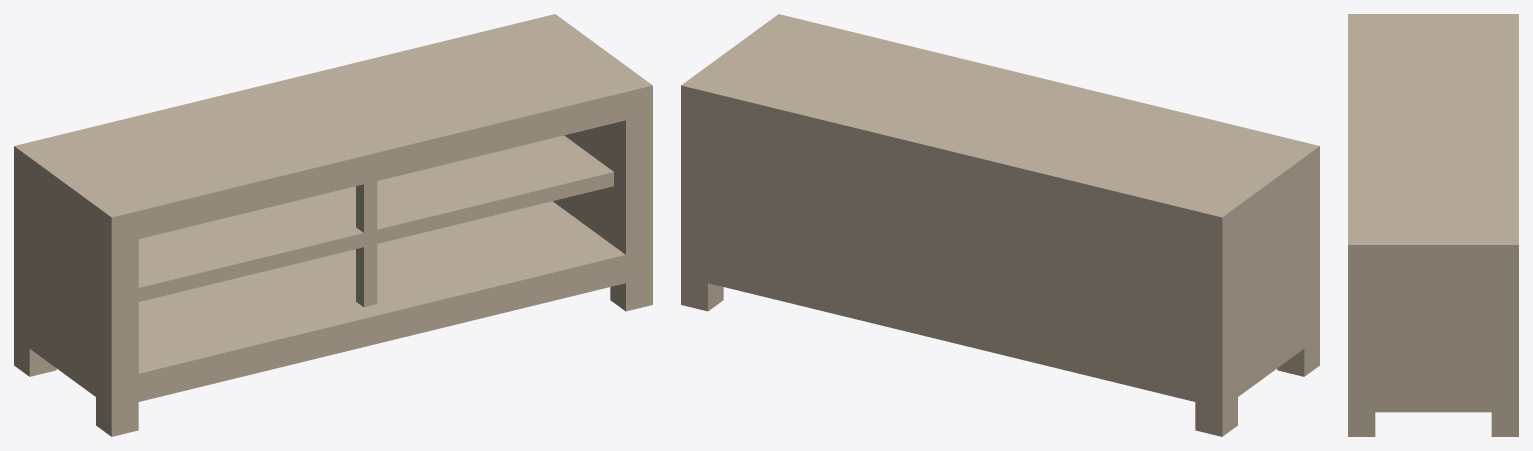
The model's file is cabinet_tv.glb.
3 views of the same model, side by side, from view 1: azimuth 30°, elevation 25°; view 2: azimuth 150°, elevation 25°; view 3: azimuth 270°, elevation 25° (orthographic). The views are drawn at different scales.
Visible parts, largest first — view 1: cabinet_tv; view 2: cabinet_tv; view 3: cabinet_tv.
Boxes of the visible parts, x1,y1,x2,y2 form: cabinet_tv: [14, 14, 652, 436]; cabinet_tv: [681, 14, 1319, 436]; cabinet_tv: [1348, 14, 1518, 436].
Size of the model in its own units: 48 by 18.6 by 15.
